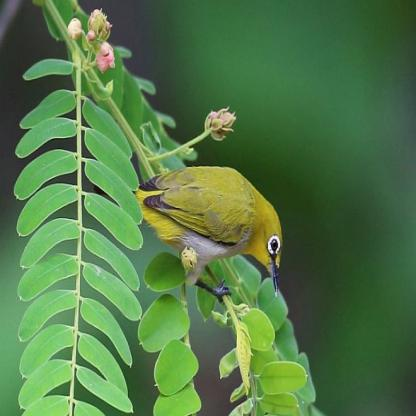Burung: (92, 164, 281, 298)
